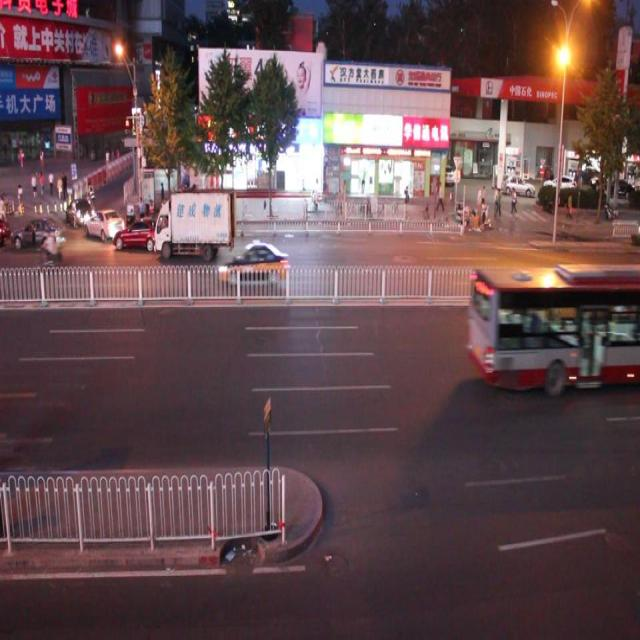bus: (154, 190, 235, 258)
car: (216, 242, 289, 283), (166, 185, 223, 232), (11, 214, 65, 254), (113, 215, 170, 251), (84, 207, 125, 242), (66, 196, 95, 228)
van: (468, 268, 640, 385)
